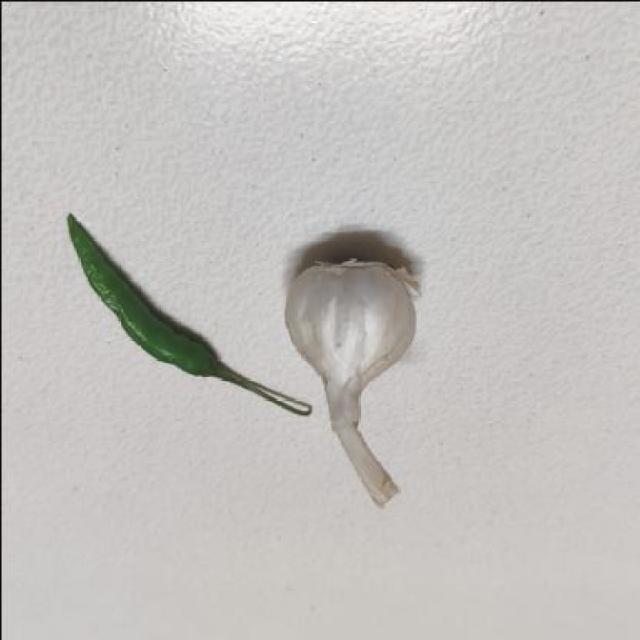Garlic: (277, 227, 437, 524)
Green Chili: (39, 192, 276, 436)
